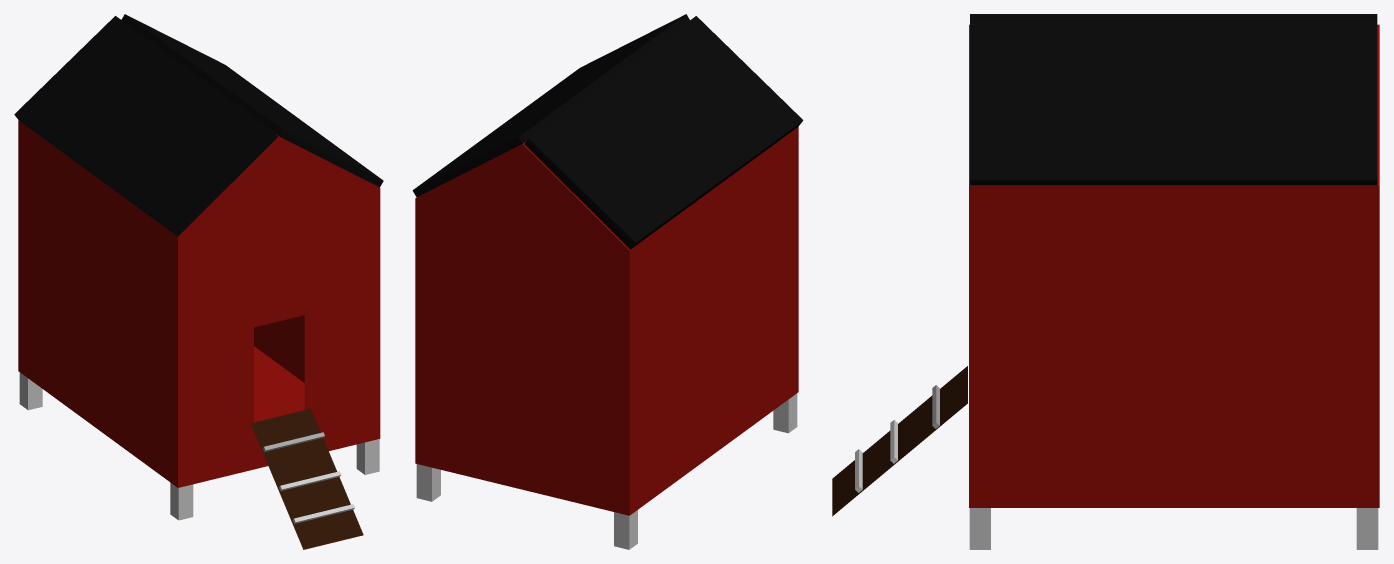
File: obstacle_casa.obj
The picture shows the model from 3 angles, left to right: view 1: azimuth 30°, elevation 25°; view 2: azimuth 150°, elevation 25°; view 3: azimuth 270°, elevation 25°; orthographic projection. The views are drawn at different scales.
Parts seen in each view (by area): view 1: Cube, Cube.009, Plane, Cube.008, Cube.002, Cube.001, Cube.003; view 2: Cube, Cube.009, Cube.008, Cube.004, Cube.003, Cube.002; view 3: Cube, Cube.008, Plane, Cube.009, Cube.004, Cube.001.
Part boxes in pixels (x1,y1,x2,y2): Cube: (18,120,380,487); Cube.009: (14,16,277,236); Plane: (251,408,363,549); Cube.008: (121,14,383,187); Cube.002: (170,482,193,520); Cube.001: (356,439,379,474); Cube.003: (19,372,42,410); Cube: (415,127,798,515); Cube.009: (524,16,803,249); Cube.008: (412,14,689,197); Cube.004: (416,464,440,501); Cube.003: (614,510,637,549); Cube.002: (773,393,797,433); Cube: (969,24,1379,507); Cube.008: (970,20,1377,185); Plane: (832,366,967,516); Cube.009: (970,14,1377,20); Cube.004: (1356,508,1378,549); Cube.001: (969,508,990,549).
Bounding box in the file's own units: 3.4 × 5.74 × 5.94.
